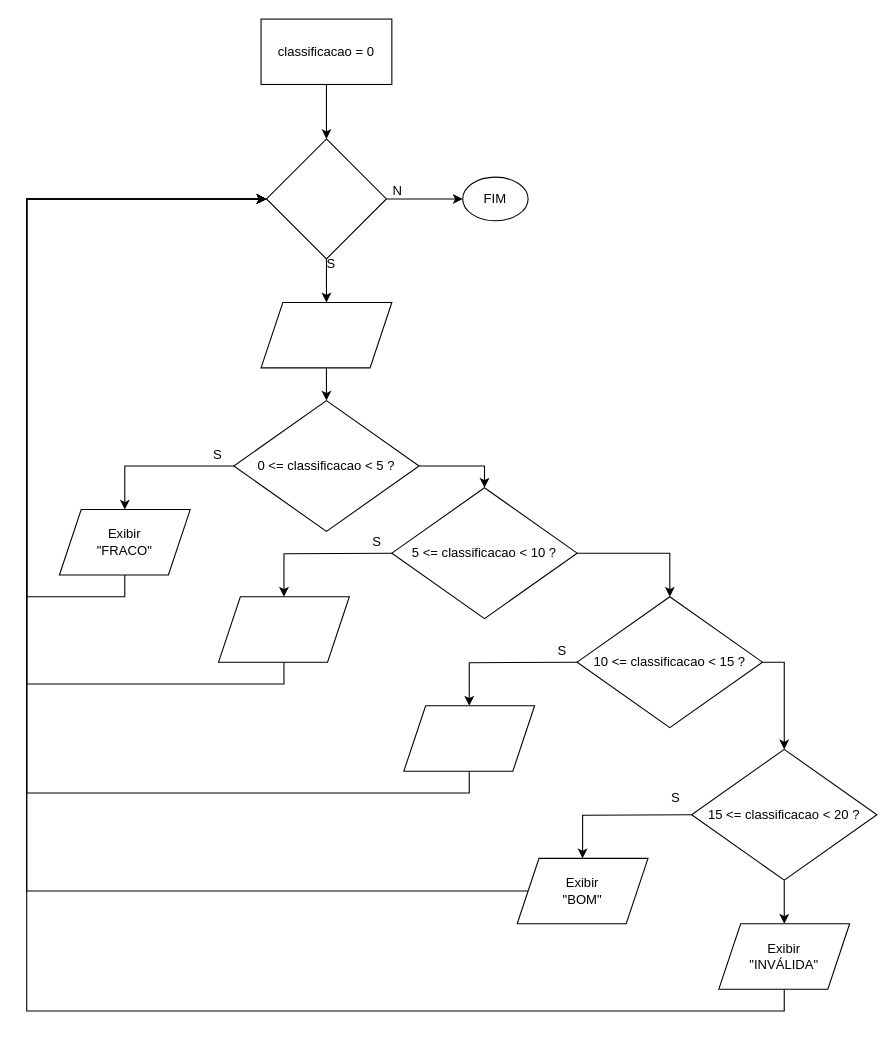
Some shapes in this 896 by 1039 pixel diagram are drawn without their labels. Each missing label, with the centre of its shape:
classificacao >= 0?: point (325, 198)
Exibir "SUFICIENTE": point (469, 738)
Exibir INSUFICIENTE": point (283, 629)
Ler classificacao: point (326, 334)
